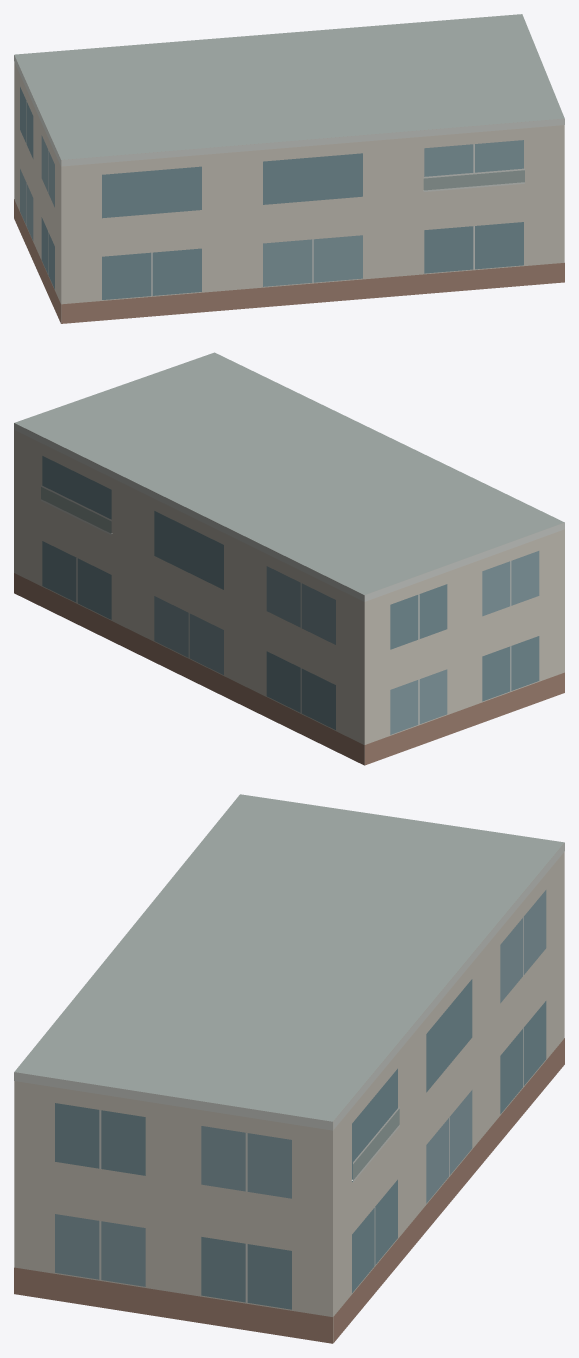
Rendered from survey-upis-32884266.glb.
3 renders of one model, top to bottom at view 1: azimuth 30°, elevation 25°; view 2: azimuth 150°, elevation 25°; view 3: azimuth 270°, elevation 25°, orthographic. The views are drawn at different scales.
Visible parts, largest first — view 1: survey-upis-32884266.tmp; view 2: survey-upis-32884266.tmp; view 3: survey-upis-32884266.tmp.
Boxes of the visible parts, bbox=[...] form: survey-upis-32884266.tmp: bbox=[14, 14, 564, 323]; survey-upis-32884266.tmp: bbox=[14, 352, 564, 765]; survey-upis-32884266.tmp: bbox=[14, 794, 564, 1343].
Bounding box in the file's own units: 19.32 × 6.1 × 13.72.
